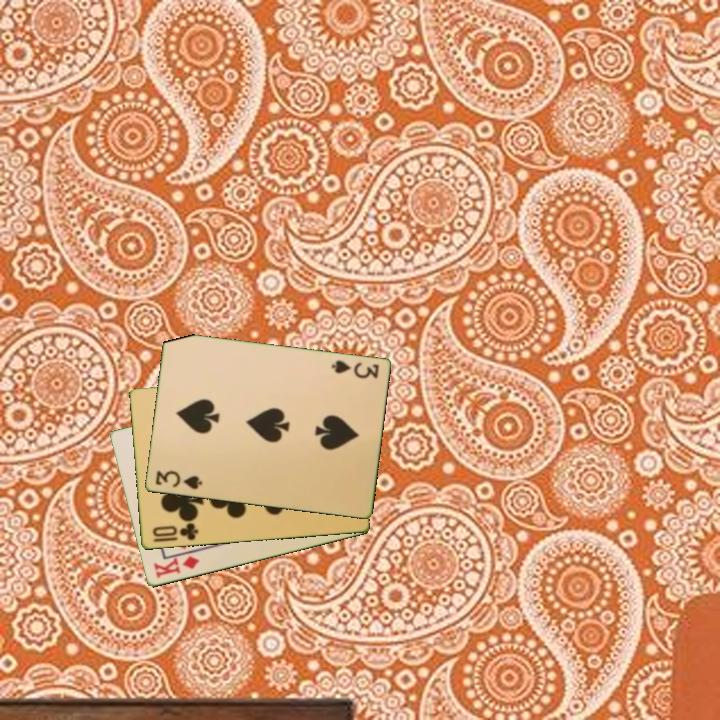10c: (149, 520, 201, 544)
3s: (152, 467, 205, 493), (327, 357, 382, 382)
Kd: (150, 553, 202, 581)
